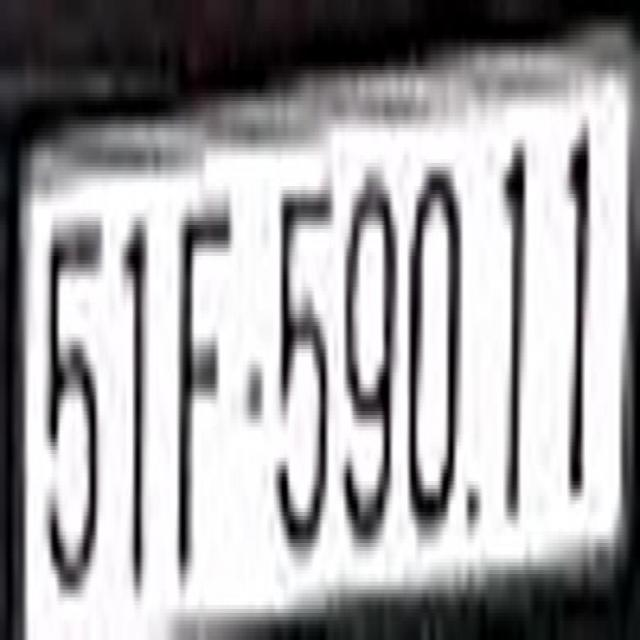0: (406, 148, 456, 528)
1: (118, 205, 146, 598), (566, 109, 592, 512), (501, 132, 523, 531)
5: (42, 202, 102, 601), (278, 186, 331, 551)
9: (338, 171, 398, 543)
F: (178, 198, 232, 578)
